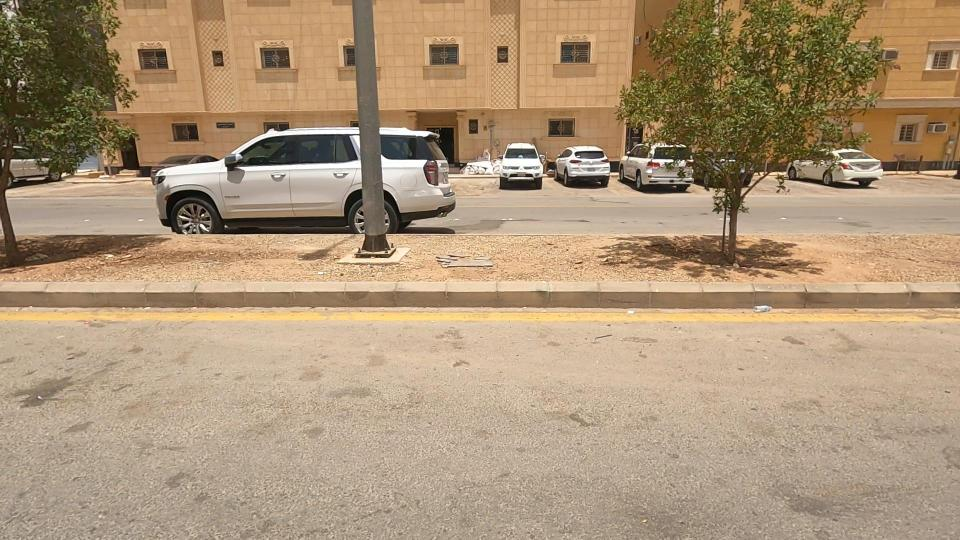GARBAGE: (381, 222, 573, 309), (709, 278, 812, 338)
